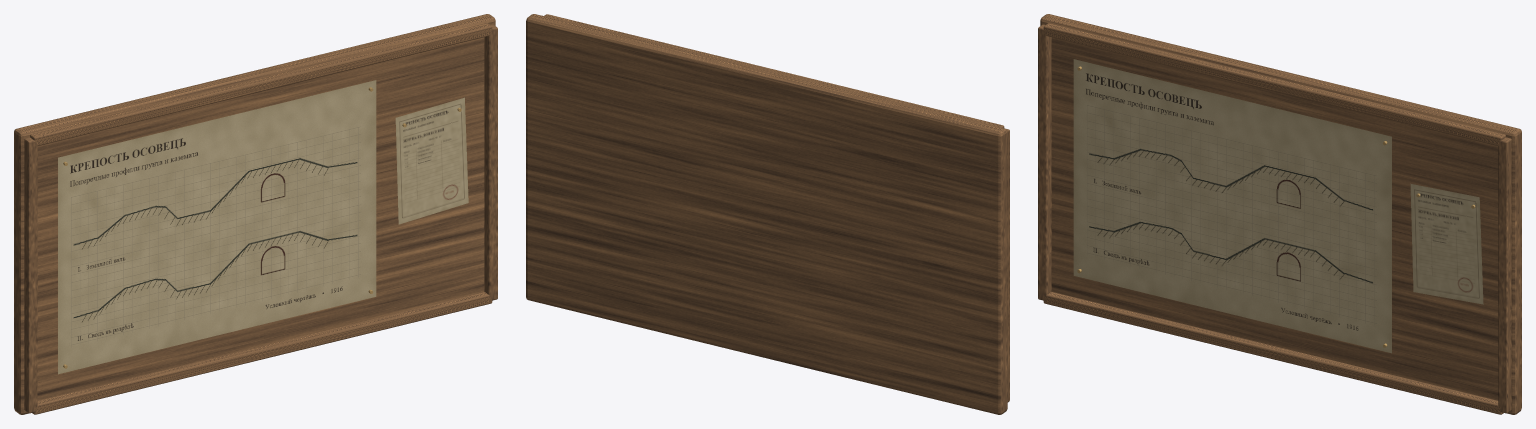
The model's file is SurveyBoard.fbx.
3 views of the same model, side by side, from view 1: azimuth 30°, elevation 25°; view 2: azimuth 150°, elevation 25°; view 3: azimuth 330°, elevation 25° (orthographic).
Parts seen in each view (by area): view 1: HQ_Profiles, HQ_DarkWalnut, HQ_QuarterSawn, HQ_Dispatch; view 2: HQ_DarkWalnut, HQ_QuarterSawn; view 3: HQ_Profiles, HQ_DarkWalnut, HQ_QuarterSawn, HQ_Dispatch.
Part boxes in pixels (x1=…): HQ_Profiles: x1=58, y1=80, x2=376, y2=374; HQ_DarkWalnut: x1=14, y1=14, x2=495, y2=414; HQ_QuarterSawn: x1=24, y1=23, x2=497, y2=414; HQ_Dispatch: x1=395, y1=97, x2=468, y2=224; HQ_DarkWalnut: x1=526, y1=14, x2=1007, y2=414; HQ_QuarterSawn: x1=544, y1=14, x2=1009, y2=402; HQ_Profiles: x1=1073, y1=59, x2=1391, y2=353; HQ_DarkWalnut: x1=1040, y1=14, x2=1521, y2=414; HQ_QuarterSawn: x1=1038, y1=23, x2=1511, y2=414; HQ_Dispatch: x1=1410, y1=183, x2=1483, y2=304.
Size of the model in its own units: 2.38 by 1.35 by 0.11.
